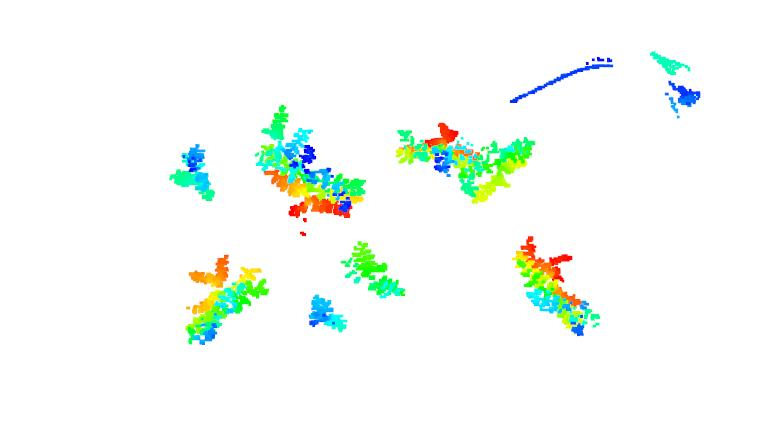chickpea: (259, 105, 367, 224), (512, 234, 603, 339), (183, 252, 272, 350), (458, 137, 539, 207), (392, 120, 483, 170), (339, 239, 406, 301), (168, 144, 219, 205), (305, 292, 349, 336)
